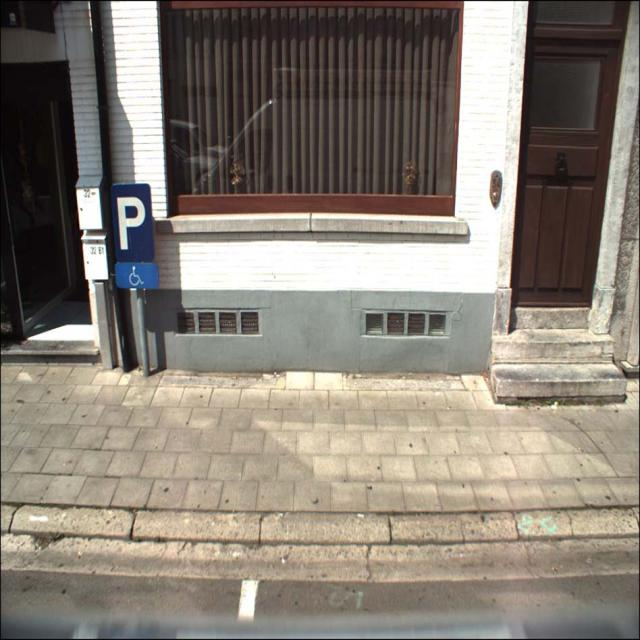park: (110, 183, 154, 262)
